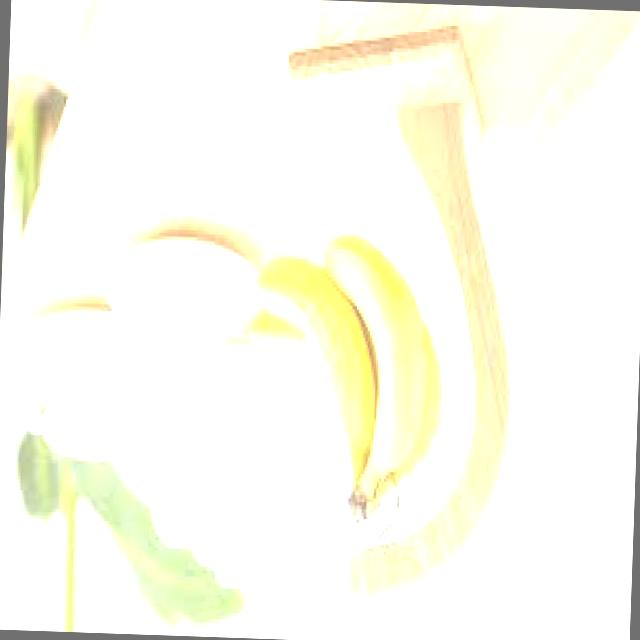Banana: (238, 232, 448, 522)
